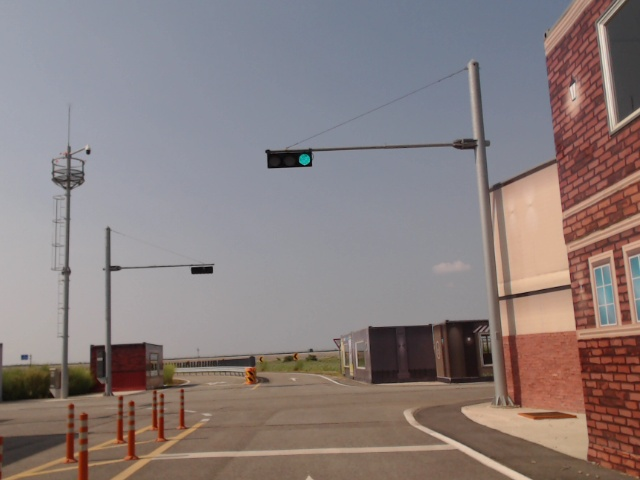green_3: (267, 152, 313, 168)
